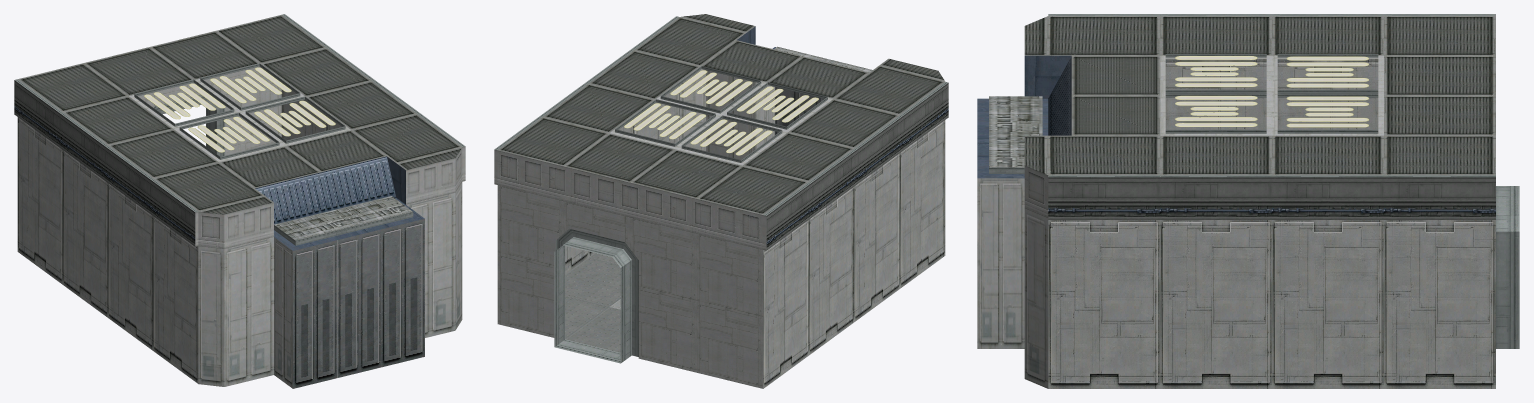
Rendered from mun_all_military_base_police_station_impl_s01_r3_meeting2_mesh_r3.fbx.
3 views of the same model, side by side, from view 1: azimuth 30°, elevation 25°; view 2: azimuth 150°, elevation 25°; view 3: azimuth 270°, elevation 25° (orthographic). The views are drawn at different scales.
Parts seen in each view (by area): view 1: mesh_node; view 2: mesh_node; view 3: mesh_node.
Boxes of the visible parts, x1,y1,x2,y2 form: mesh_node: (14,14,465,388); mesh_node: (494,14,948,388); mesh_node: (977,14,1519,388).
Bounding box in the file's own units: 8.2 × 5.09 × 11.5.
